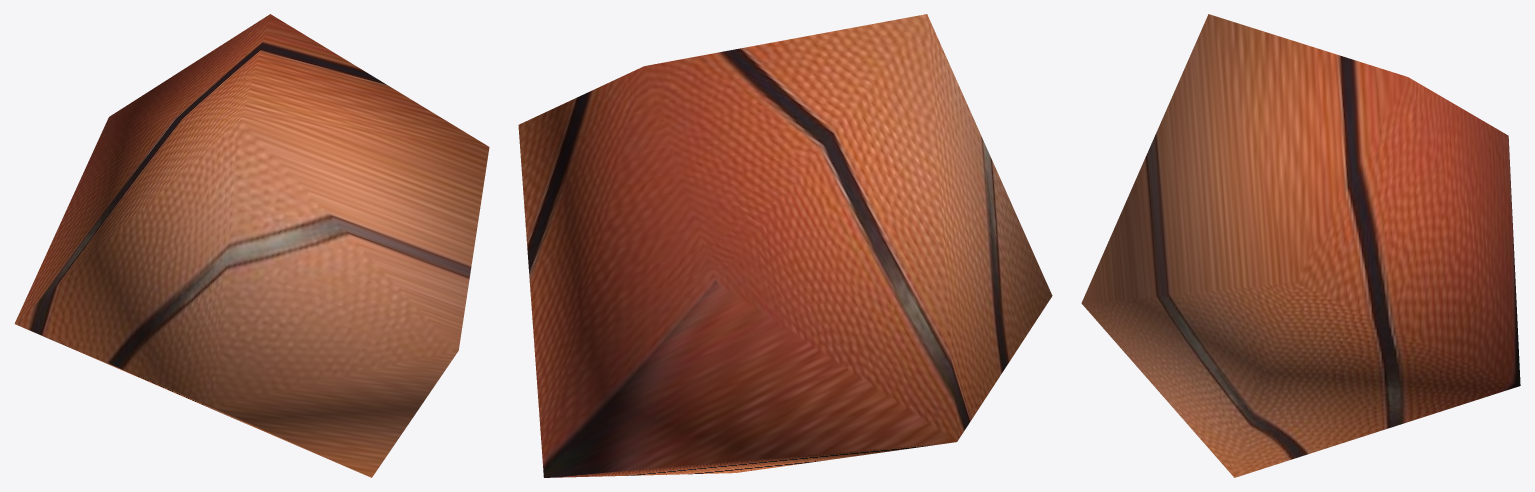
The model's file is basketball_0.001.obj.
3 renders of one model, left to right at view 1: azimuth 30°, elevation 25°; view 2: azimuth 150°, elevation 25°; view 3: azimuth 270°, elevation 25°, orthographic. The views are drawn at different scales.
Visible parts, largest first — view 1: Sphere; view 2: Sphere; view 3: Sphere.
Boxes of the visible parts, x1,y1,x2,y2 form: Sphere: [14, 14, 489, 477]; Sphere: [518, 14, 1052, 477]; Sphere: [1081, 14, 1520, 477].
Bounding box in the file's own units: 2.15 × 1.98 × 2.
